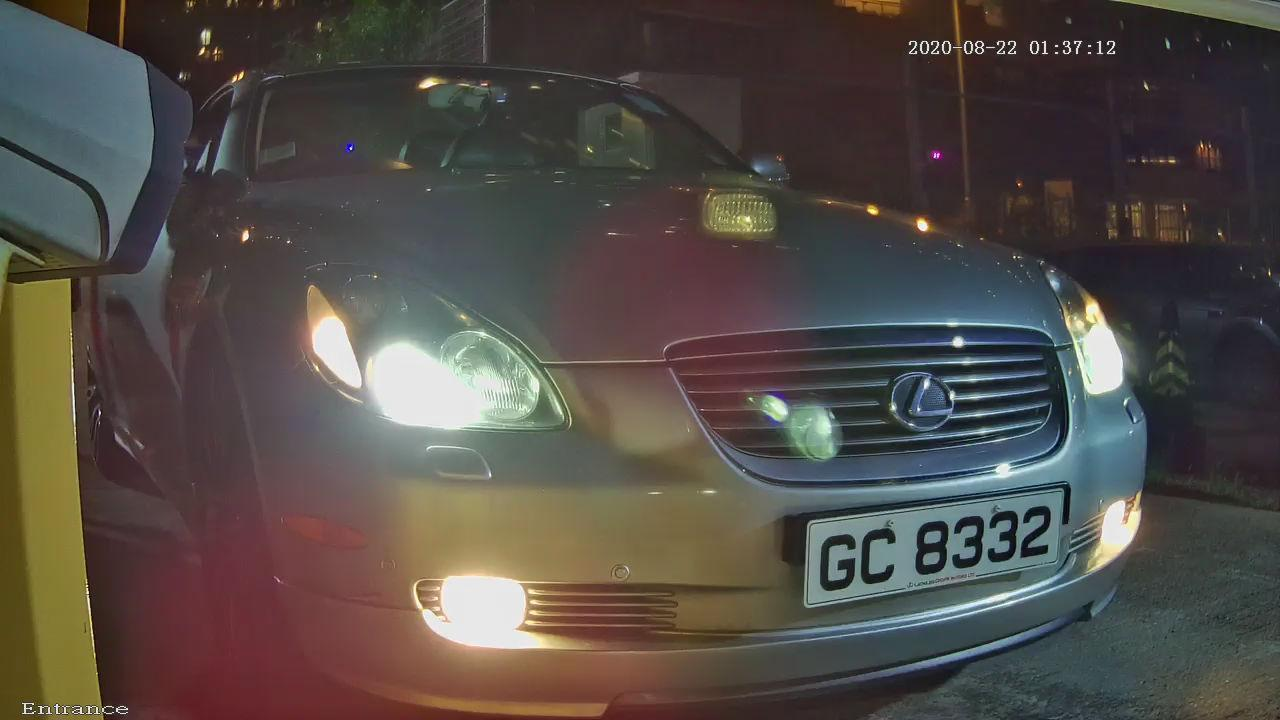Car: (18, 1, 1275, 720)
License Plate: (795, 479, 1075, 614)
